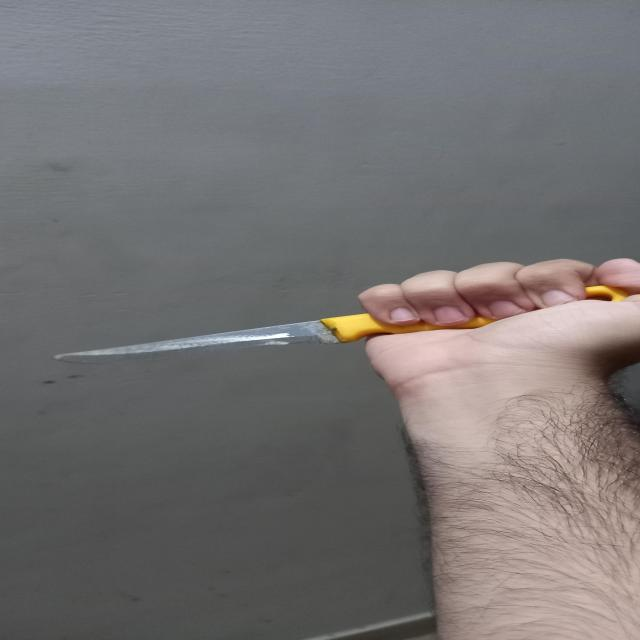Knife: (55, 286, 633, 364)
Person: (358, 259, 640, 640)
